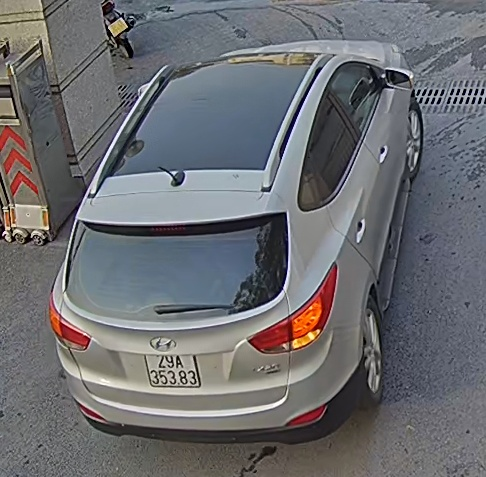vehicle plate: (140, 349, 200, 388)
